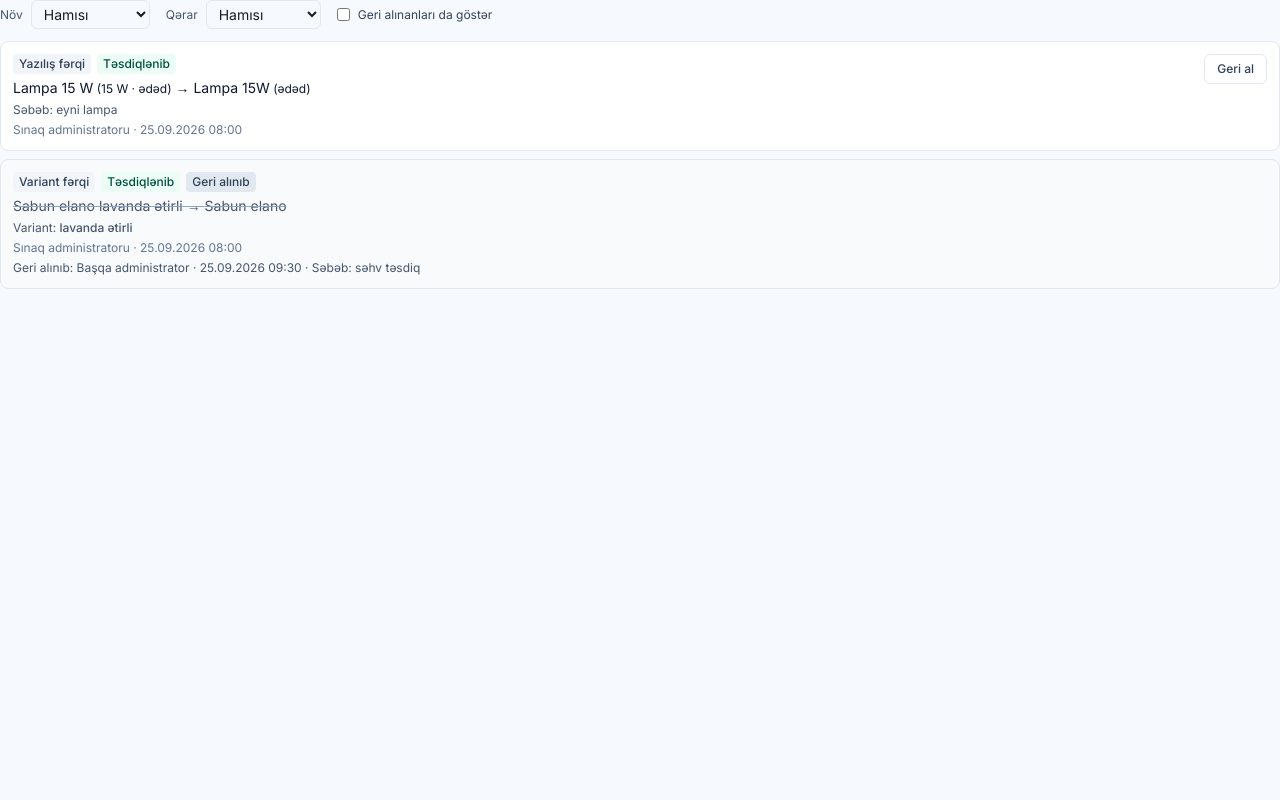
Test: taking a decision back › asks first, says what it does, and sends the reason given
Click the button "Geri al" at (1236, 69), box 1204,54 -> 1267,84
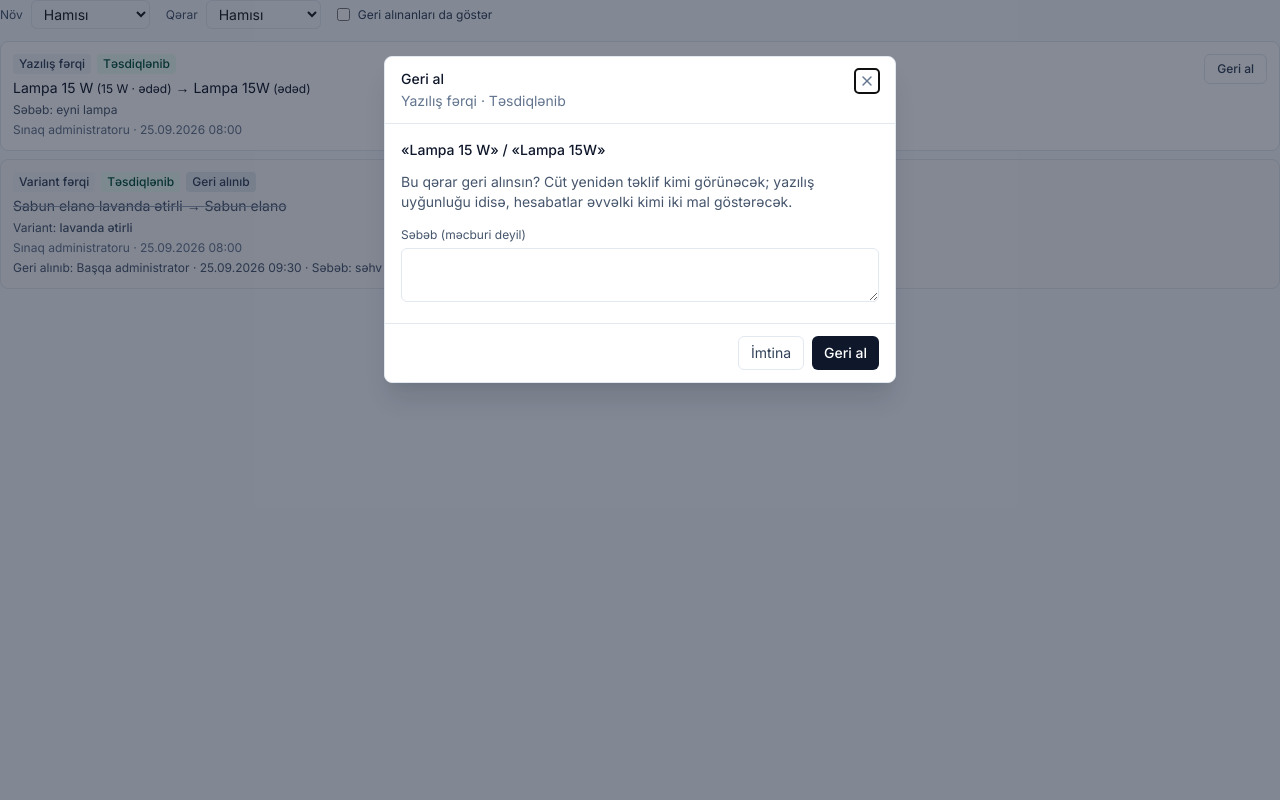
Expected: the text "Bu qərar geri alınsın? Cüt yenidən təklif kimi görünəcək" is shown, 401,173 -> 814,210
Type "səhv" into the text box labelled "Səbəb (məcburi deyil)" at (640, 275), box 401,248 -> 879,302
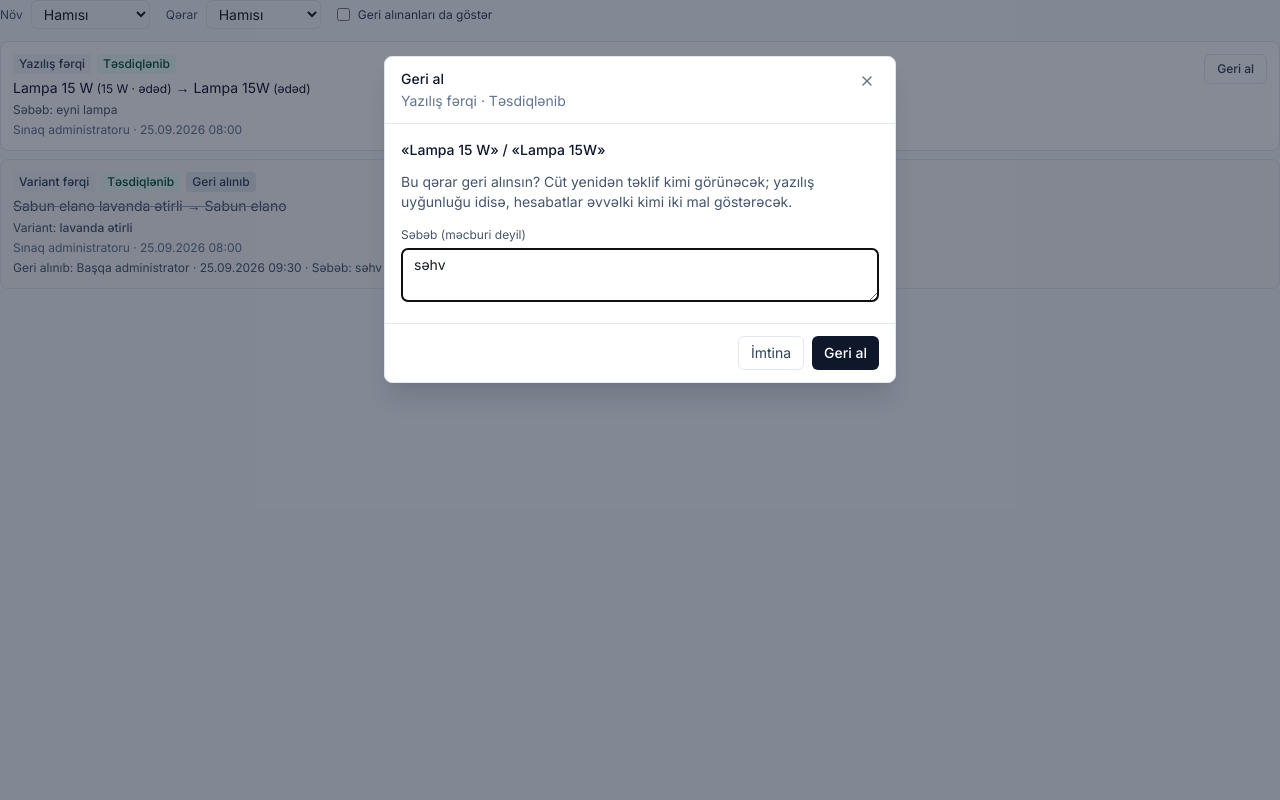
Click the button "Geri al" at (846, 353), box 812,336 -> 879,370
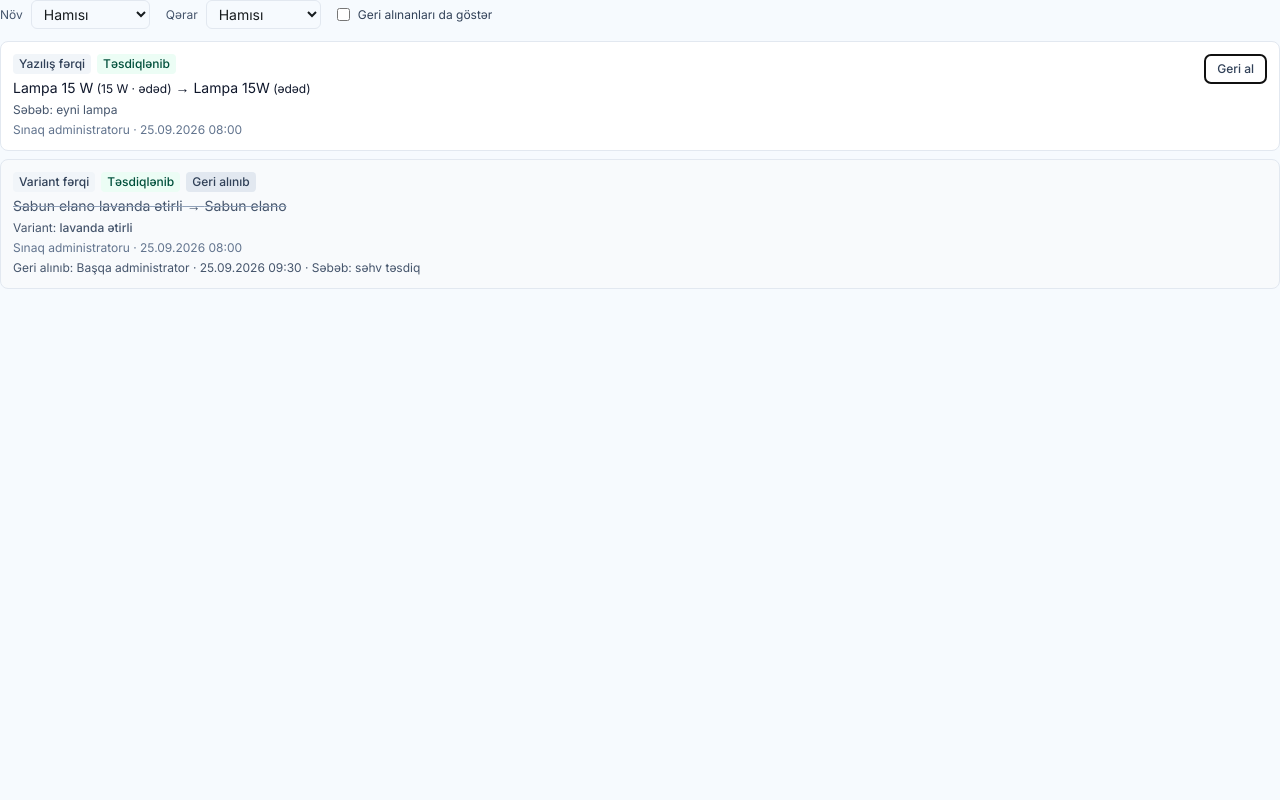
Expected: the dialog is gone
